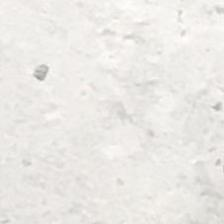Non_Crack: (55, 32, 223, 224)
